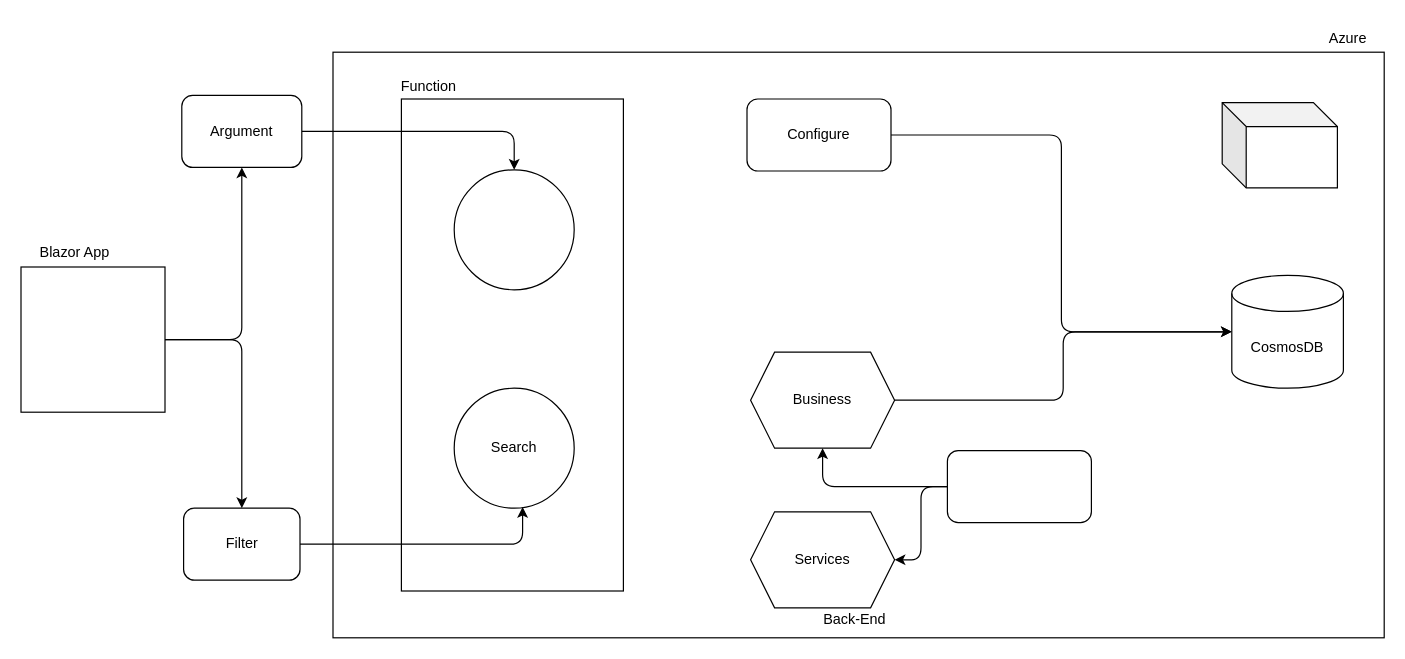
This 1405x659 diagram has some shape labels left out. Here are the shapes that lost their labels. From the top down, the centre of each, then its label:
At (x=1279, y=144): "Vault".
At (x=513, y=229): "Operation".
At (x=92, y=339): "Front-End".
At (x=1018, y=486): "Tests".
